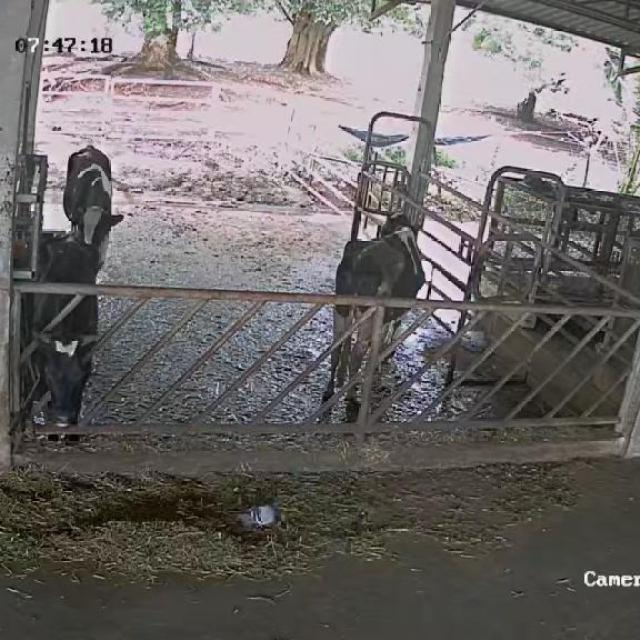feeding: (24, 231, 100, 455)
standing: (326, 210, 445, 404), (61, 142, 120, 281)
